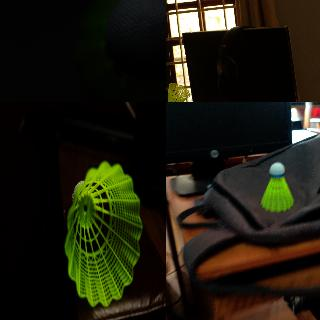shuttlecock: (64, 159, 142, 307), (75, 0, 165, 101), (259, 162, 293, 212), (166, 83, 190, 101)
